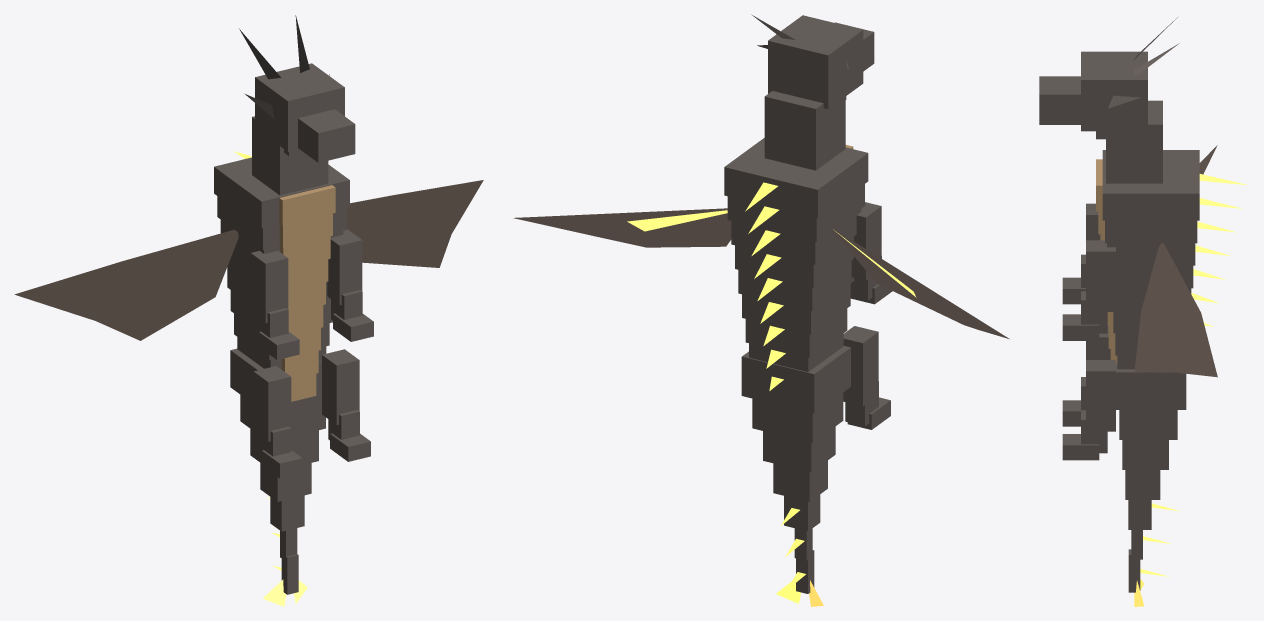
Rendered from pyrelord.glb.
The picture shows the model from 3 angles, left to right: view 1: azimuth 30°, elevation 25°; view 2: azimuth 150°, elevation 25°; view 3: azimuth 270°, elevation 25°; orthographic projection. The views are drawn at different scales.
Visible parts, largest first — view 1: body, wings, belly, head; view 2: body, wings, head, accents; view 3: body, head, wings, accents, belly.
Boxes of the visible parts, x1,y1,x2,y2 form: body: (214,116,373,594); wings: (14,180,483,340); belly: (279,185,335,401); head: (239,15,355,162); body: (724,91,892,593); wings: (513,208,1009,339); head: (751,14,874,108); accents: (627,182,916,606); body: (1062,100,1199,592); head: (1039,17,1179,131); wings: (1134,145,1217,377); accents: (1134,174,1248,606); belly: (1096,159,1117,363).
Bounding box in the file's own units: 3.3 × 3.81 × 1.26.
